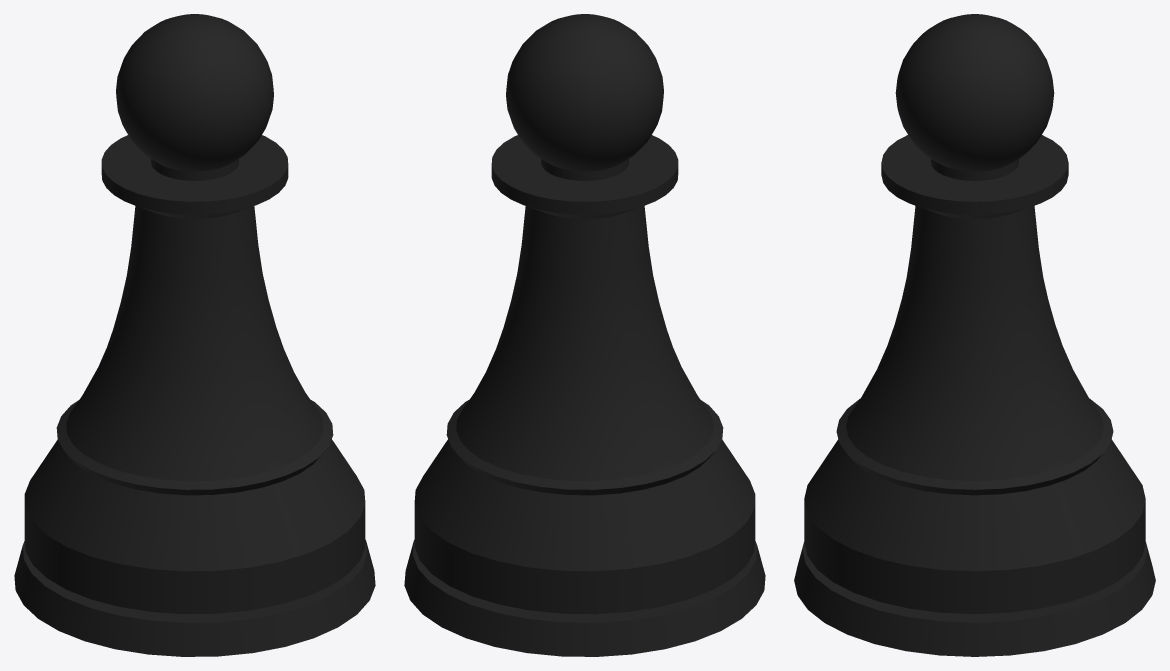
File: chess_pawn.glb
The picture shows the model from 3 angles, left to right: view 1: azimuth 30°, elevation 25°; view 2: azimuth 150°, elevation 25°; view 3: azimuth 270°, elevation 25°; orthographic projection.
Parts seen in each view (by area): view 1: Circle.2537; view 2: Circle.2537; view 3: Circle.2537.
Part boxes in pixels (box(x1,y1,x2,y2)): Circle.2537: box(14, 14, 375, 656); Circle.2537: box(404, 14, 765, 656); Circle.2537: box(794, 14, 1155, 656).
Size of the model in its own units: 1.23 by 2.1 by 1.23.
Materials: 1 (1 with a texture image).
